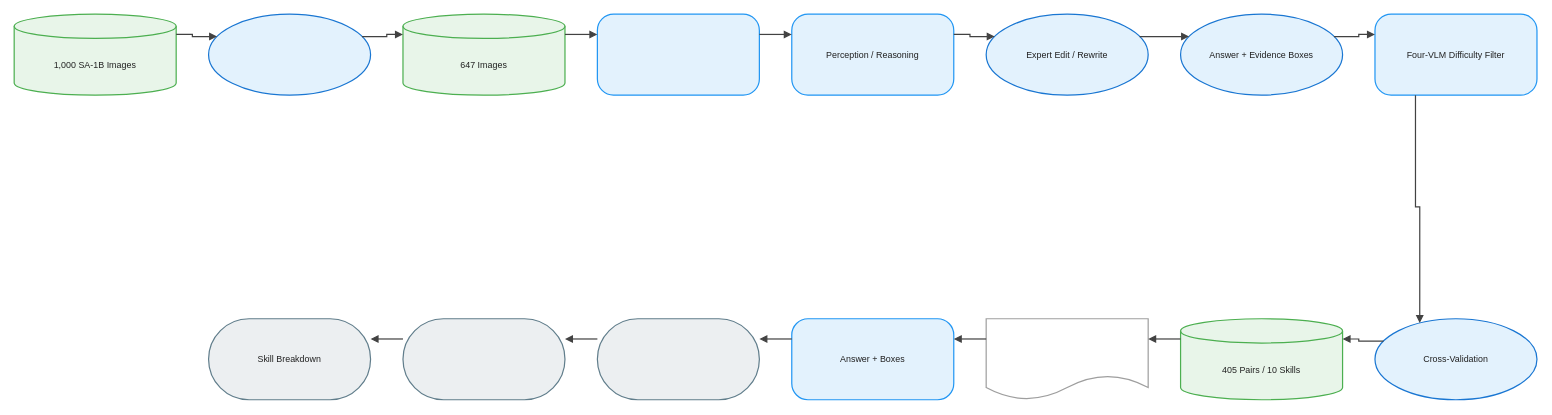
This 1552x415 diagram has some shape labels left out. The centre of each missing label's shape, as x and y in pixels:
8-Expert Image Screen: (x=289, y=54)
Answer Accuracy: (x=678, y=359)
Image + Q + Choices: (x=1066, y=359)
Mean IoU: (x=483, y=359)
o3 + Gemini Proposals: (x=678, y=54)
